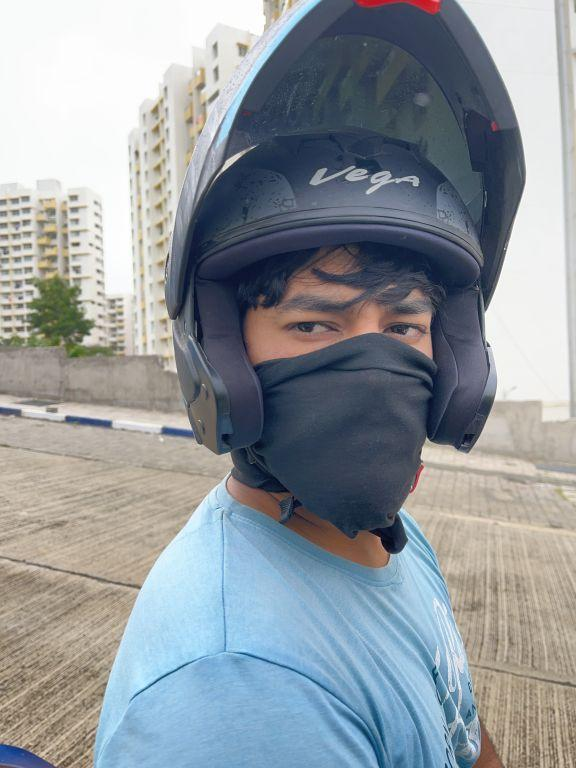helmet: (150, 0, 536, 555)
